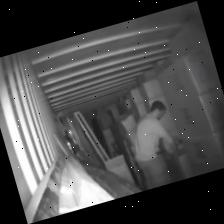person: (134, 101, 174, 189)
